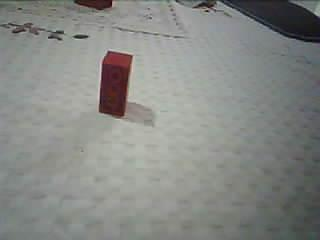lego: (99, 50, 133, 117)
